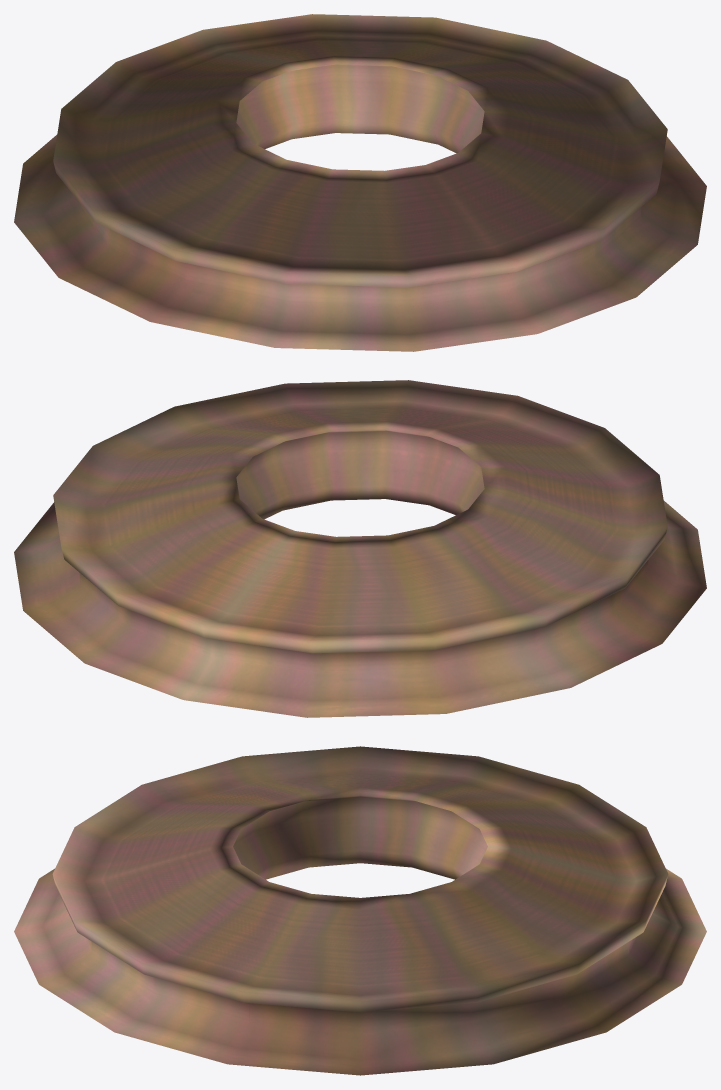
Rendered from BakedLigament.obj.
3 views of the same model, one above another, from view 1: azimuth 30°, elevation 25°; view 2: azimuth 150°, elevation 25°; view 3: azimuth 270°, elevation 25° (orthographic). The views are drawn at different scales.
Parts seen in each view (by area): view 1: BakedLigament; view 2: BakedLigament; view 3: BakedLigament.
Boxes of the visible parts, bbox=[...] form: BakedLigament: bbox=[14, 14, 706, 351]; BakedLigament: bbox=[14, 380, 706, 717]; BakedLigament: bbox=[14, 746, 706, 1075].
Bounding box in the file's own units: 1.4 × 0.2017 × 1.42.
1 material, 1 textured.
